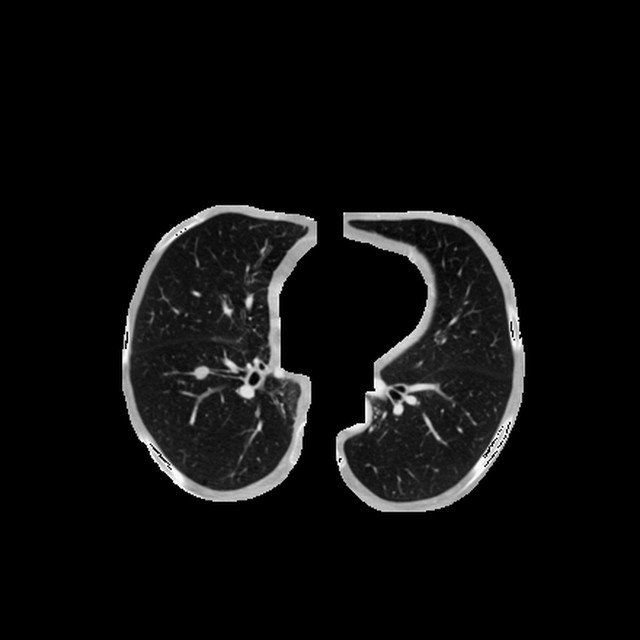PN: (193, 365, 208, 380)
